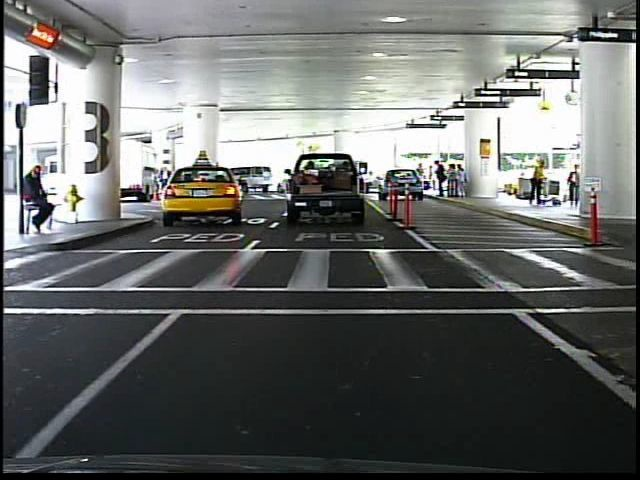person: (23, 160, 60, 231), (527, 156, 550, 209), (566, 161, 582, 208), (416, 161, 428, 192)
